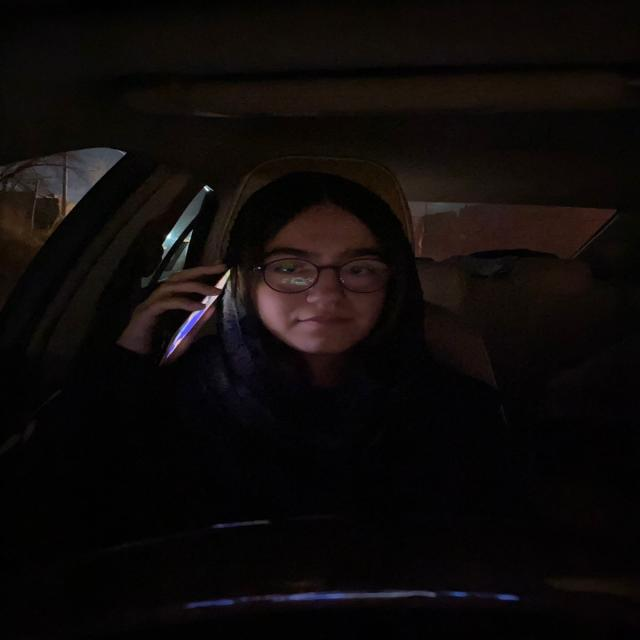phone: (157, 262, 238, 368)
